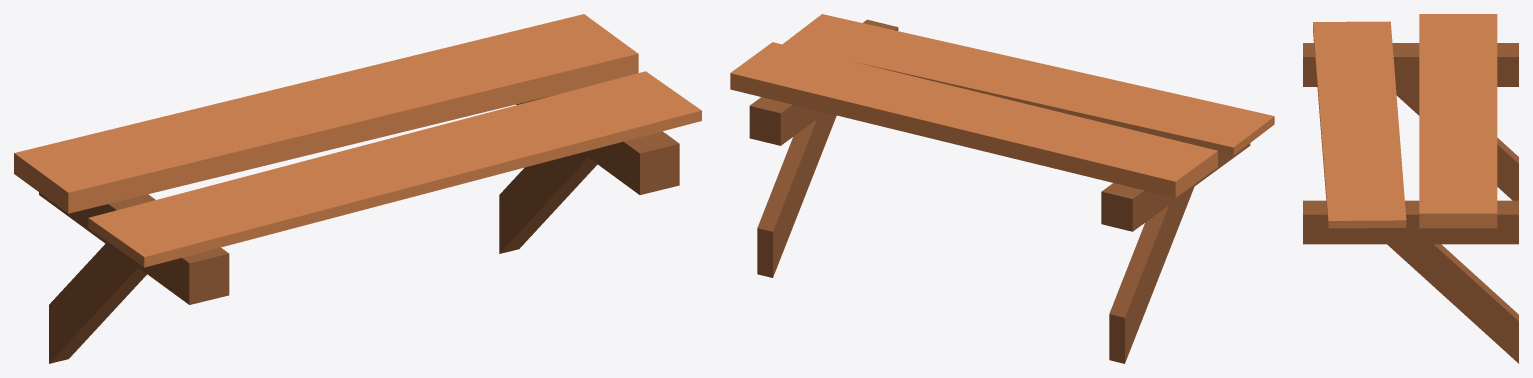
File: bridgeHalf.obj
3 views of the same model, side by side, from view 1: azimuth 30°, elevation 25°; view 2: azimuth 150°, elevation 25°; view 3: azimuth 270°, elevation 25° (orthographic). The views are drawn at different scales.
Parts seen in each view (by area): view 1: bridgeHalf; view 2: bridgeHalf; view 3: bridgeHalf.
Boxes of the visible parts, left/top/right/bottom form: bridgeHalf: left=14, top=14, right=701, bottom=363; bridgeHalf: left=730, top=14, right=1274, bottom=363; bridgeHalf: left=1303, top=14, right=1518, bottom=363.
Size of the model in its own units: 1 by 0.3925 by 0.4575.
